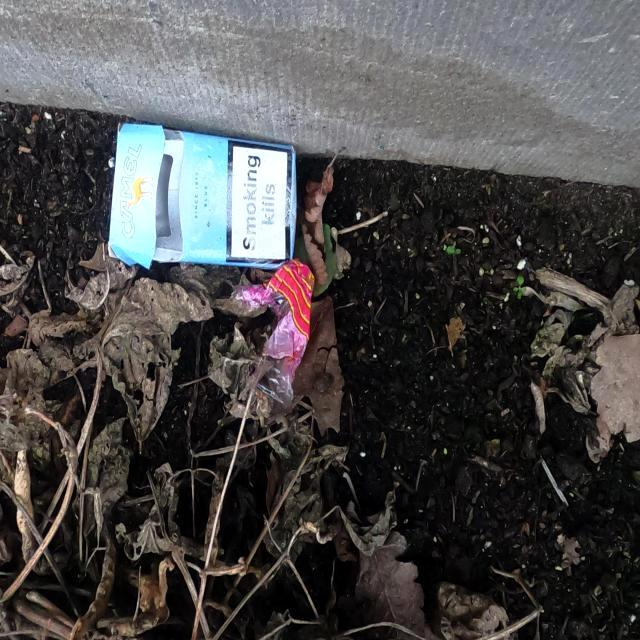Paper: (104, 118, 298, 276)
Plastic: (226, 251, 316, 409)
